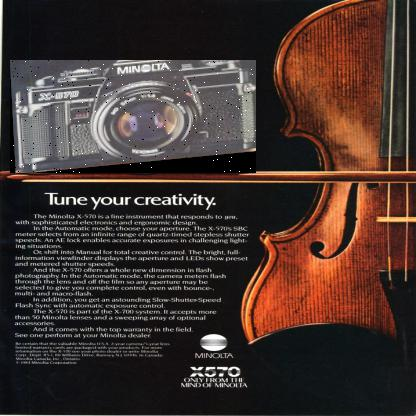Camera: (11, 61, 258, 175)
